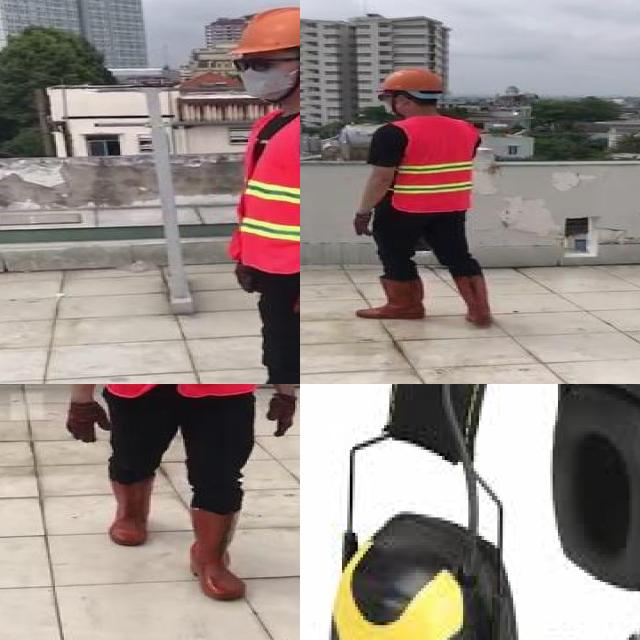Ear-protection: (323, 505, 518, 640), (547, 384, 640, 590)
boots: (188, 508, 250, 601), (109, 473, 154, 547), (358, 278, 429, 318), (451, 275, 493, 324)
face_mask: (232, 54, 300, 103)
glasses: (226, 53, 281, 74)
hand_glove: (66, 402, 110, 442), (266, 392, 298, 437), (353, 211, 373, 235)
head_helmet: (227, 5, 300, 57), (374, 66, 441, 94)
person: (59, 384, 300, 607), (343, 66, 513, 332), (190, 0, 300, 384)
vest: (232, 102, 300, 269), (387, 118, 476, 214)
